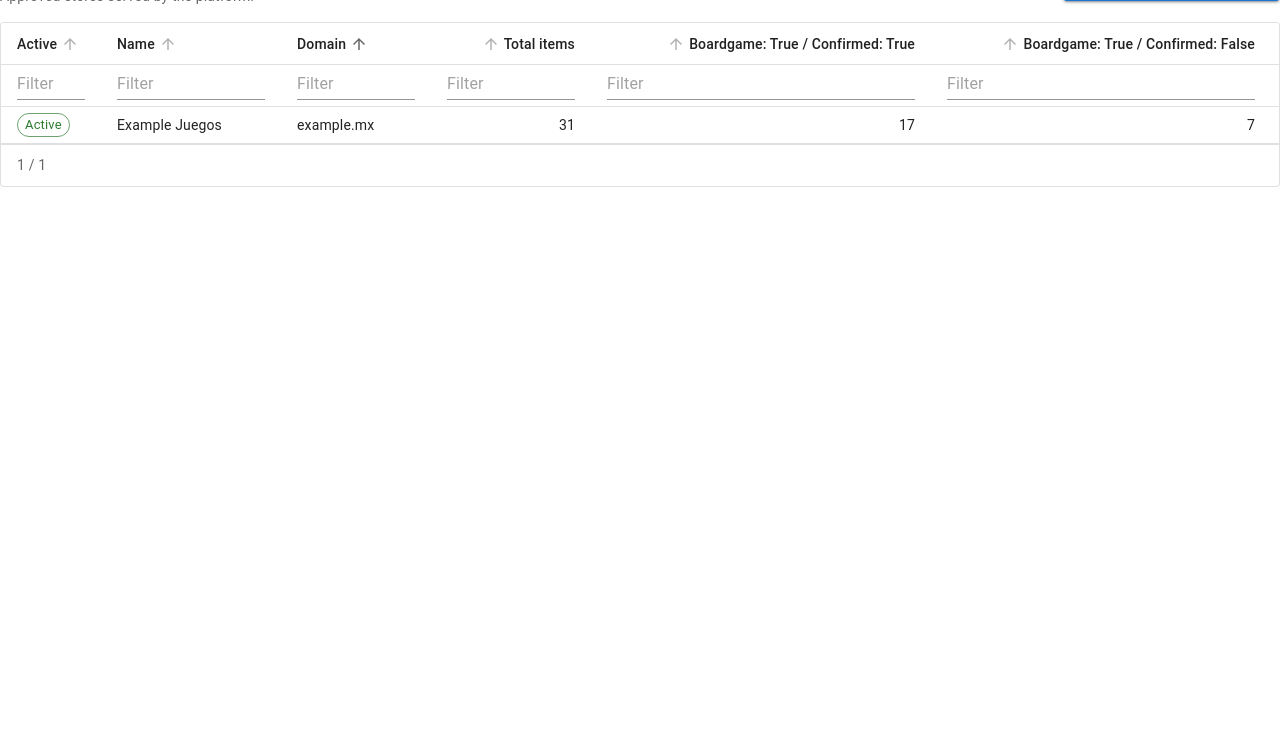
Test case: StoresPage › opens a clean store form and saves changes
Double-click the text "Example Juegos" at (191, 125), box [101, 107, 281, 144]
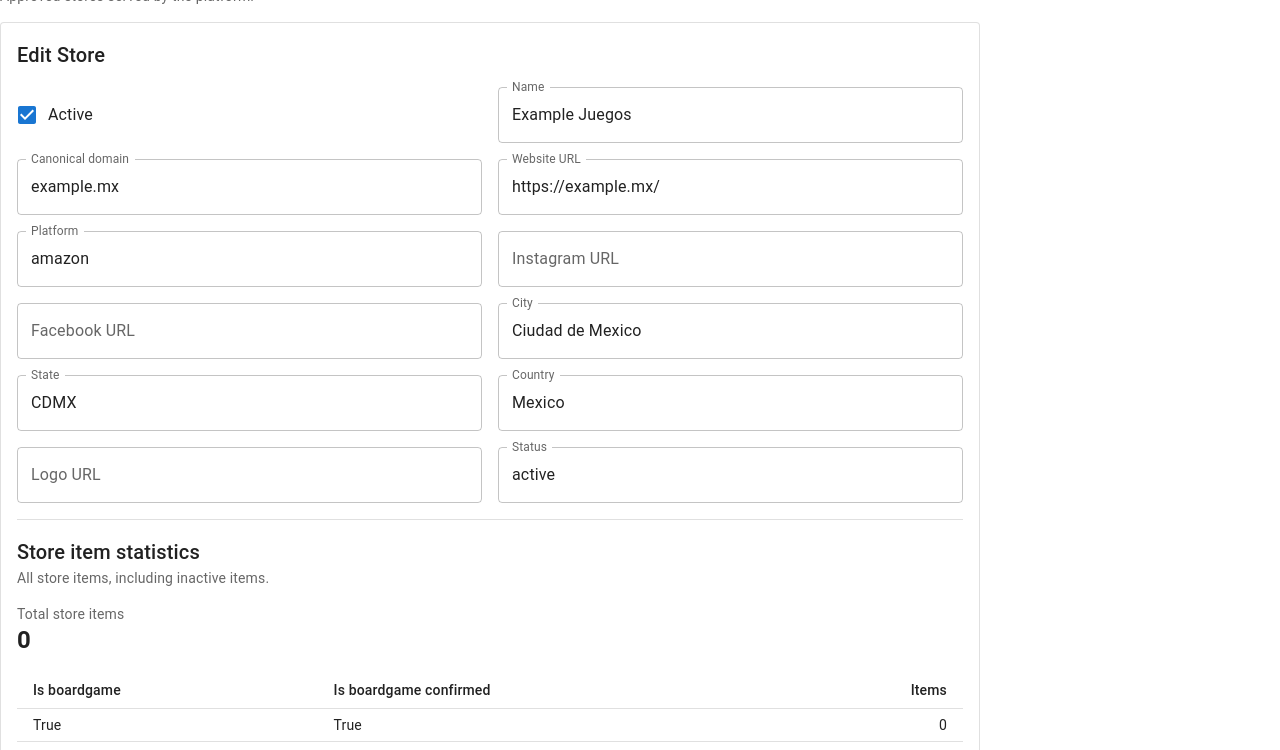
Expected: the heading "Edit Store" is shown, [17, 43, 105, 67]
Replace the text in the field labelled "Name" with "Example Updated" at (730, 115), box [498, 87, 963, 143]
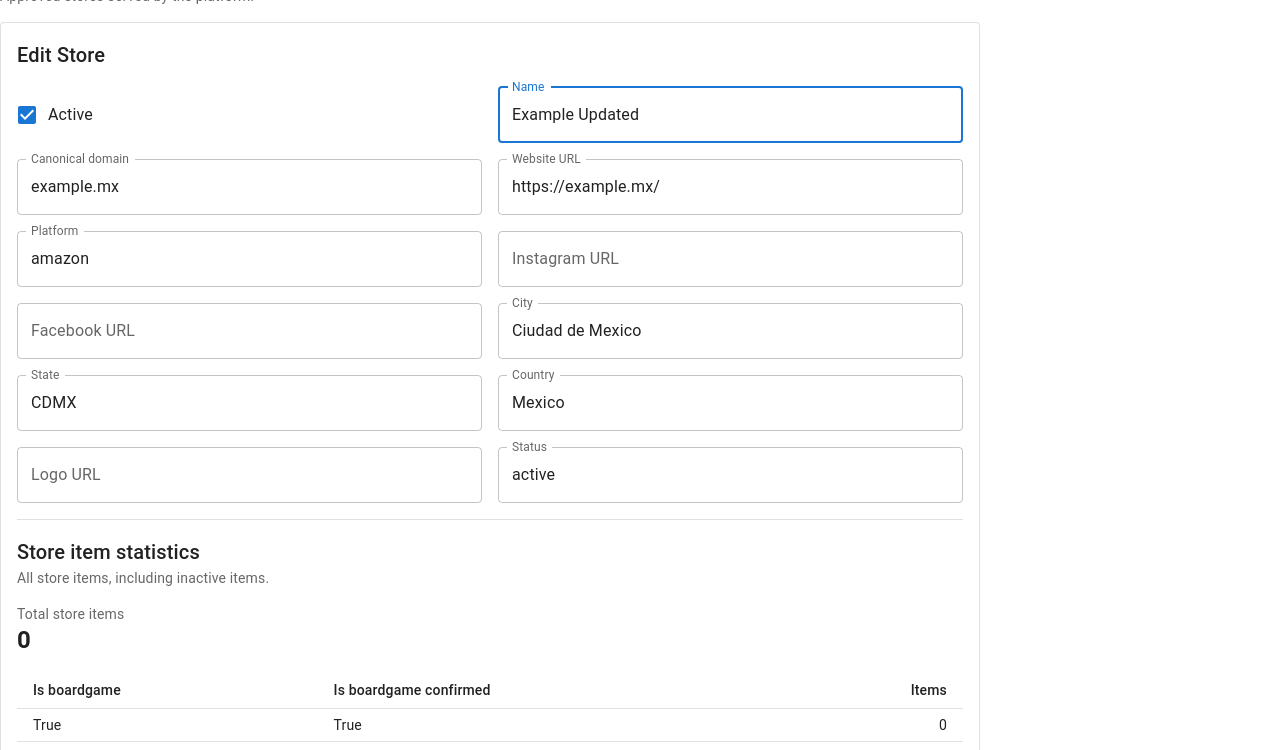
Expected: the field labelled "Platform" holds "amazon"
Replace the text in the field labelled "Platform" with "shopify" at (250, 259), box [17, 231, 482, 287]
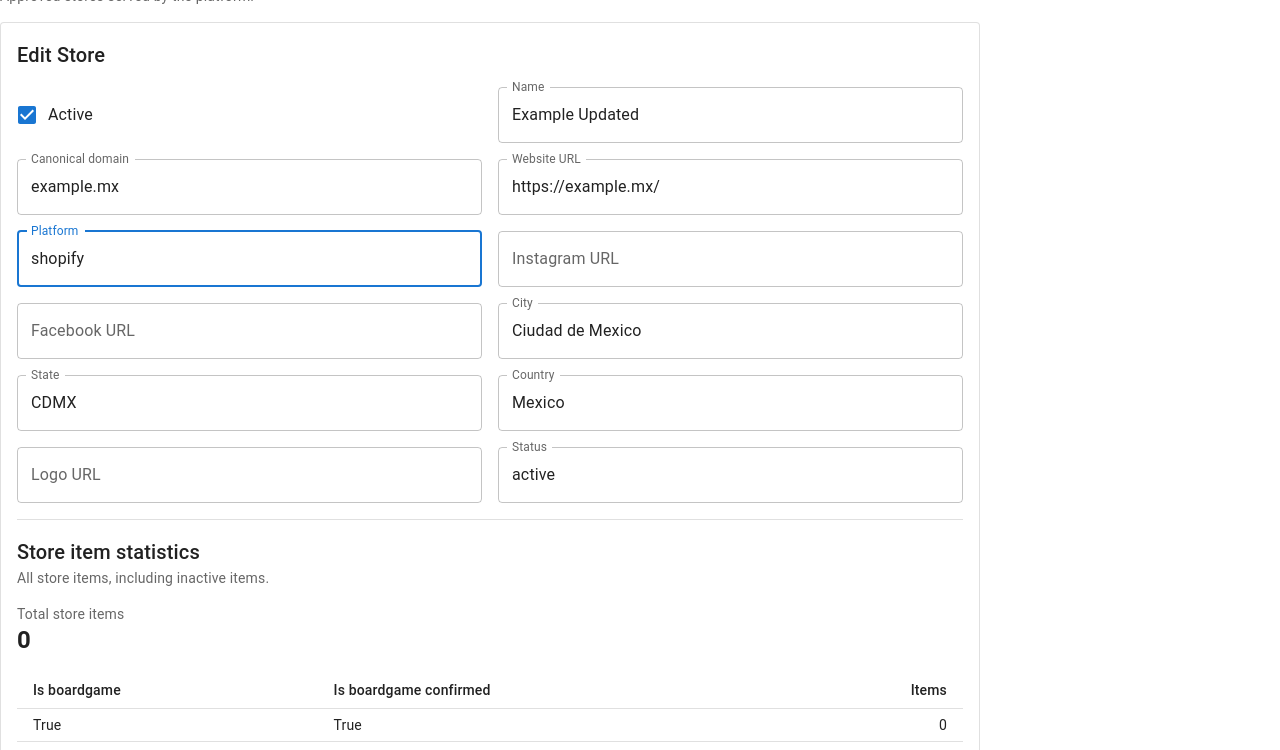
Click the checkbox labelled "Active" at (54, 115), box [15, 103, 93, 127]
(page scrolled)
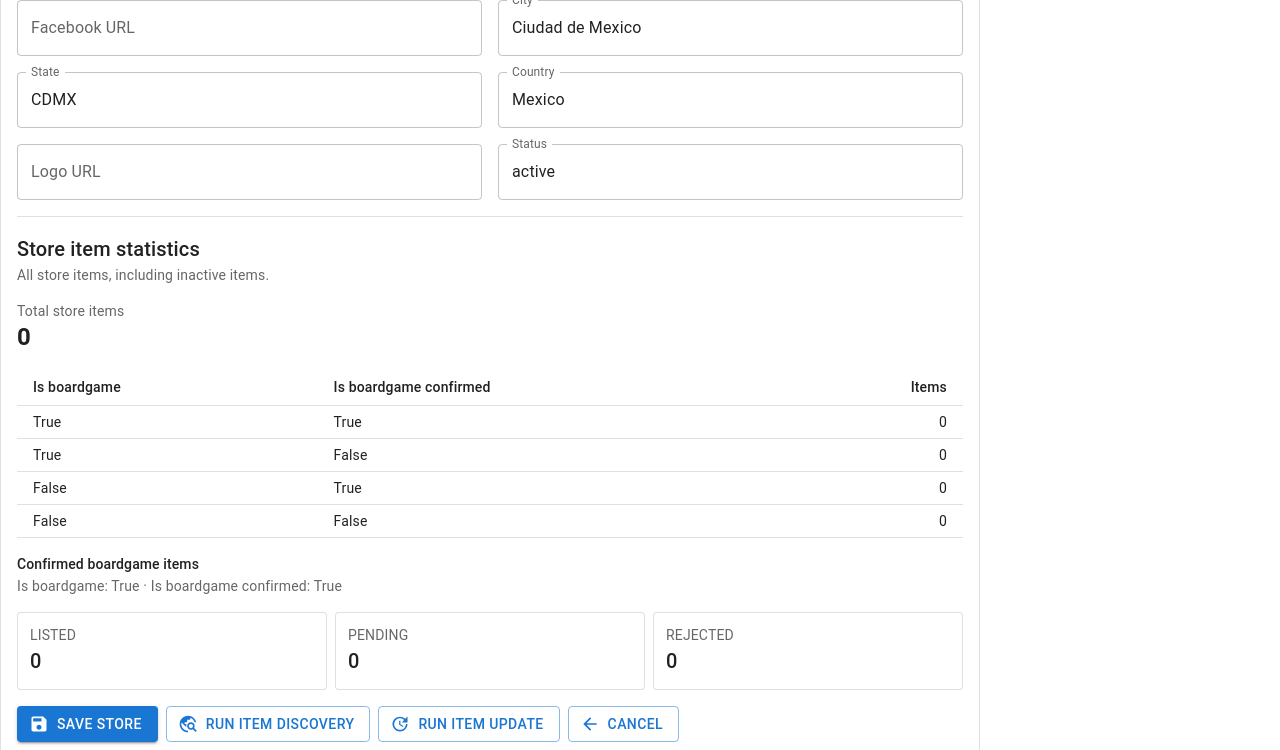
Click the button "Save Store" at (87, 724), box [17, 706, 158, 742]
(page scrolled)
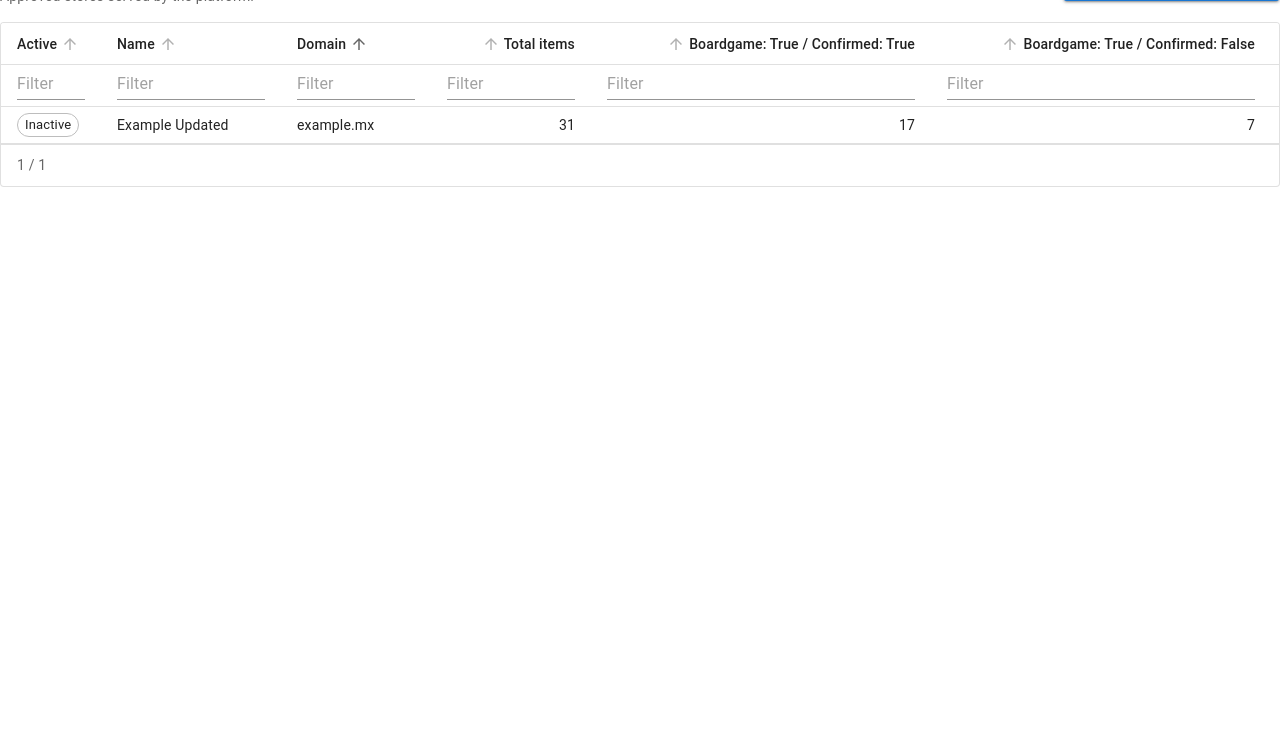
Expected: the text "Example Updated" is shown, [101, 107, 281, 144]
